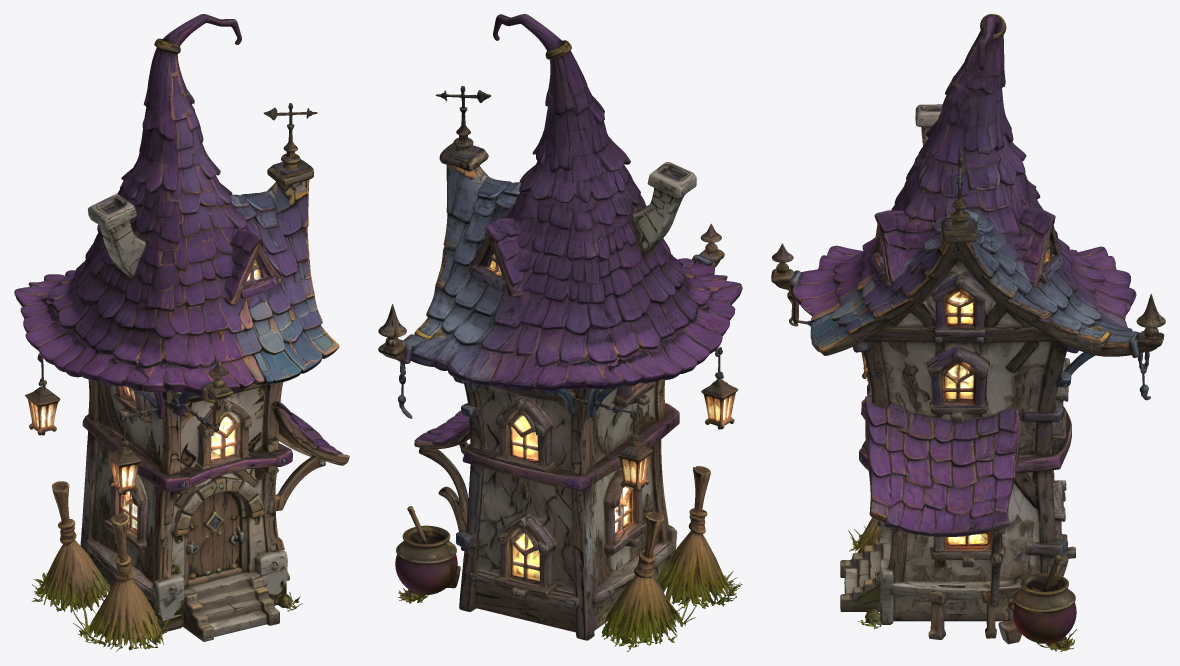
The model's file is SilverWizardHouse_300k.glb.
3 renders of one model, left to right at view 1: azimuth 30°, elevation 25°; view 2: azimuth 150°, elevation 25°; view 3: azimuth 270°, elevation 25°, orthographic. The views are drawn at different scales.
Parts seen in each view (by area): view 1: mesh_node; view 2: mesh_node; view 3: mesh_node.
Part boxes in pixels (left/top/right/bottom): mesh_node: left=14, top=14, right=349, bottom=651; mesh_node: left=378, top=14, right=742, bottom=651; mesh_node: left=771, top=14, right=1165, bottom=651.
Size of the model in its own units: 0.9526 by 1.9 by 1.15.
1 material, 1 textured.
